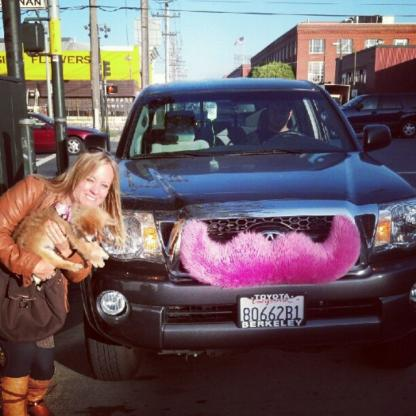Car: (67, 85, 405, 364), (321, 95, 416, 137), (24, 114, 104, 163)
